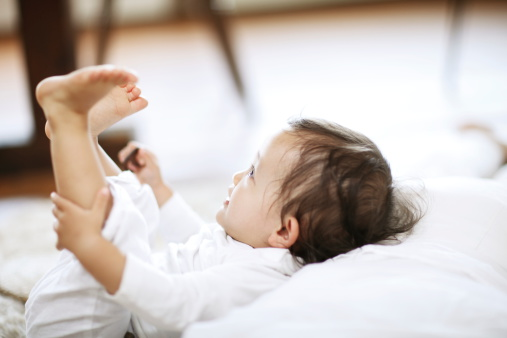deitado: (13, 101, 388, 338)
